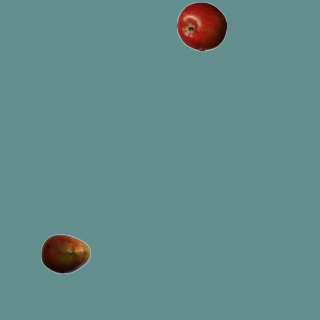Apple Braeburn: (176, 1, 226, 51)
Mango Red: (40, 228, 90, 278)
